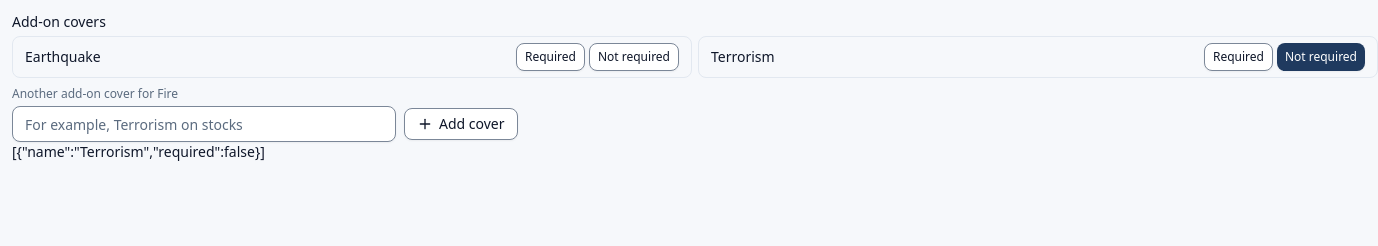
CoverToggles › adds a cover the master does not list, asked for, and refuses a repeat
Type "  Terrorism on   stocks" into the field labelled "Another add-on cover for Fire" at (204, 124), box 12,106 -> 396,142
Then press Enter
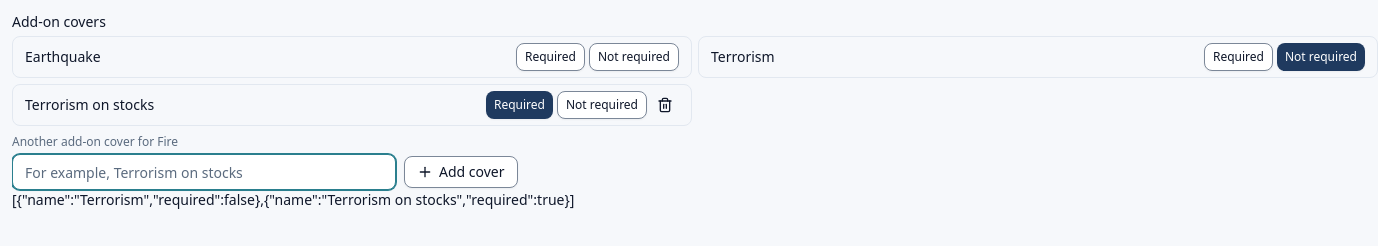
Type "earthquake" into the field labelled "Another add-on cover for Fire" at (204, 172), box 12,154 -> 396,190
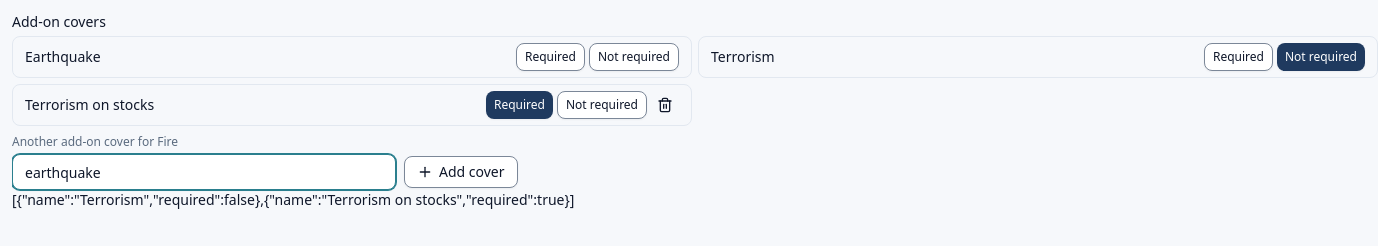
Click the button "Add cover" at (461, 172), box 404,156 -> 518,188
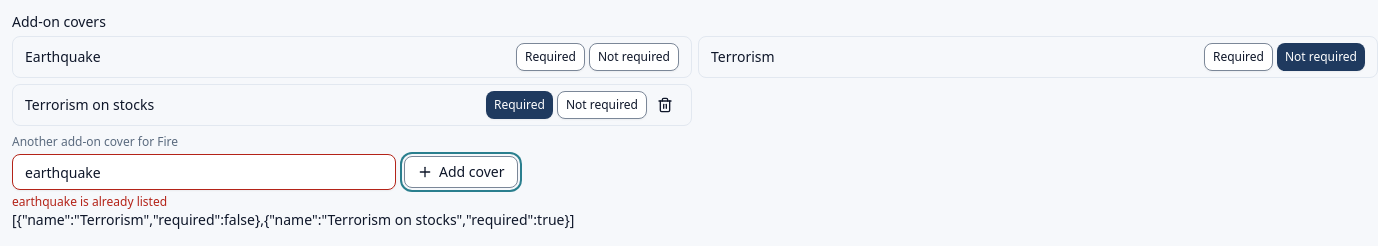
Check: the message reads "earthquake is already listed", box 12,193 -> 167,210
Click the button named "Remove Terrorism on stocks" at (665, 105), box 651,91 -> 679,119
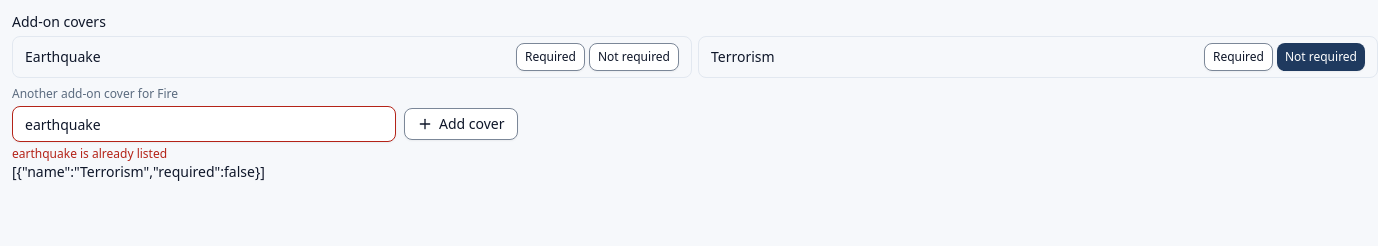
Check: the text "Terrorism on stocks" is gone
